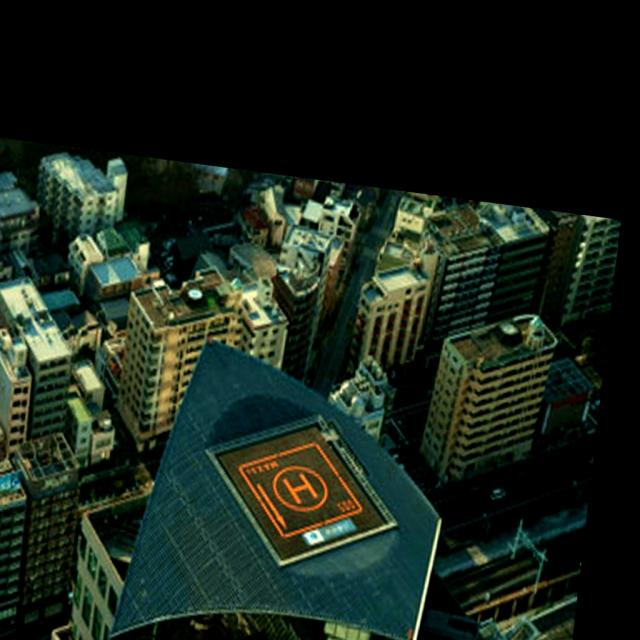helipad: (269, 463, 330, 513)
